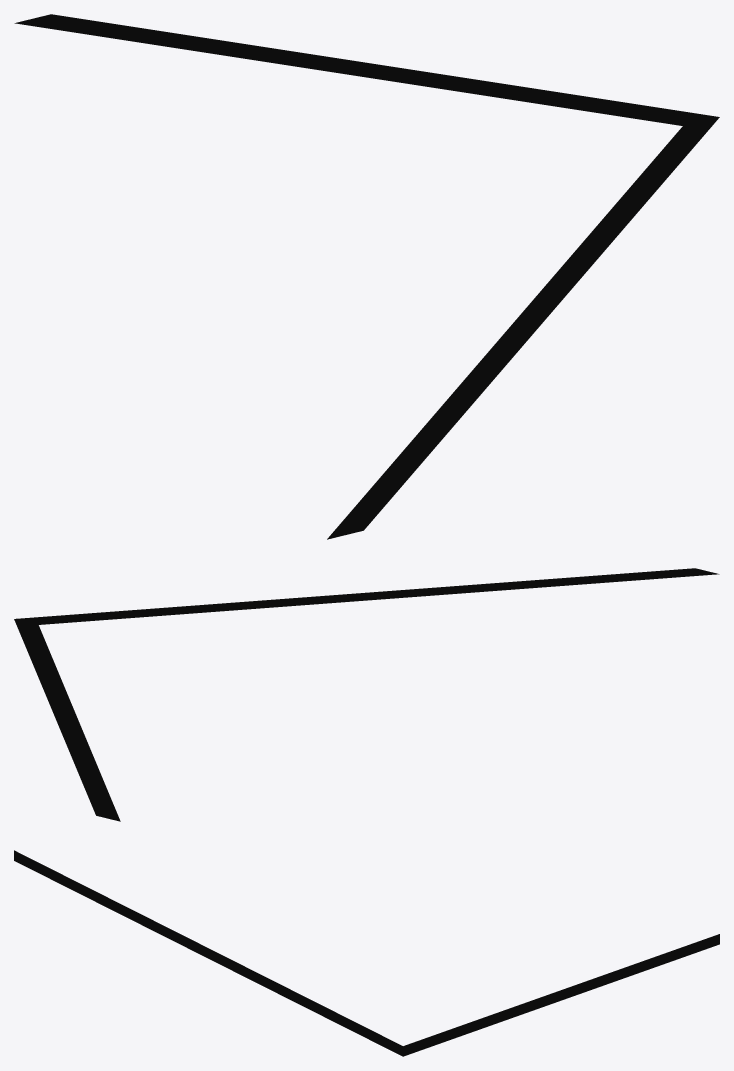
3 views of the same model, one above another, from view 1: azimuth 30°, elevation 25°; view 2: azimuth 150°, elevation 25°; view 3: azimuth 270°, elevation 25° (orthographic). The views are drawn at different scales.
Parts seen in each view (by area): view 1: Joint_0_Object_0; view 2: Joint_0_Object_0; view 3: Joint_0_Object_0.
Boxes of the visible parts, x1,y1,x2,y2 form: Joint_0_Object_0: (14,14,719,539); Joint_0_Object_0: (14,568,719,821); Joint_0_Object_0: (14,850,719,1056).
Bounding box in the file's own units: 997 × 0 × 1440.
Materials: 1 (1 with a texture image).
